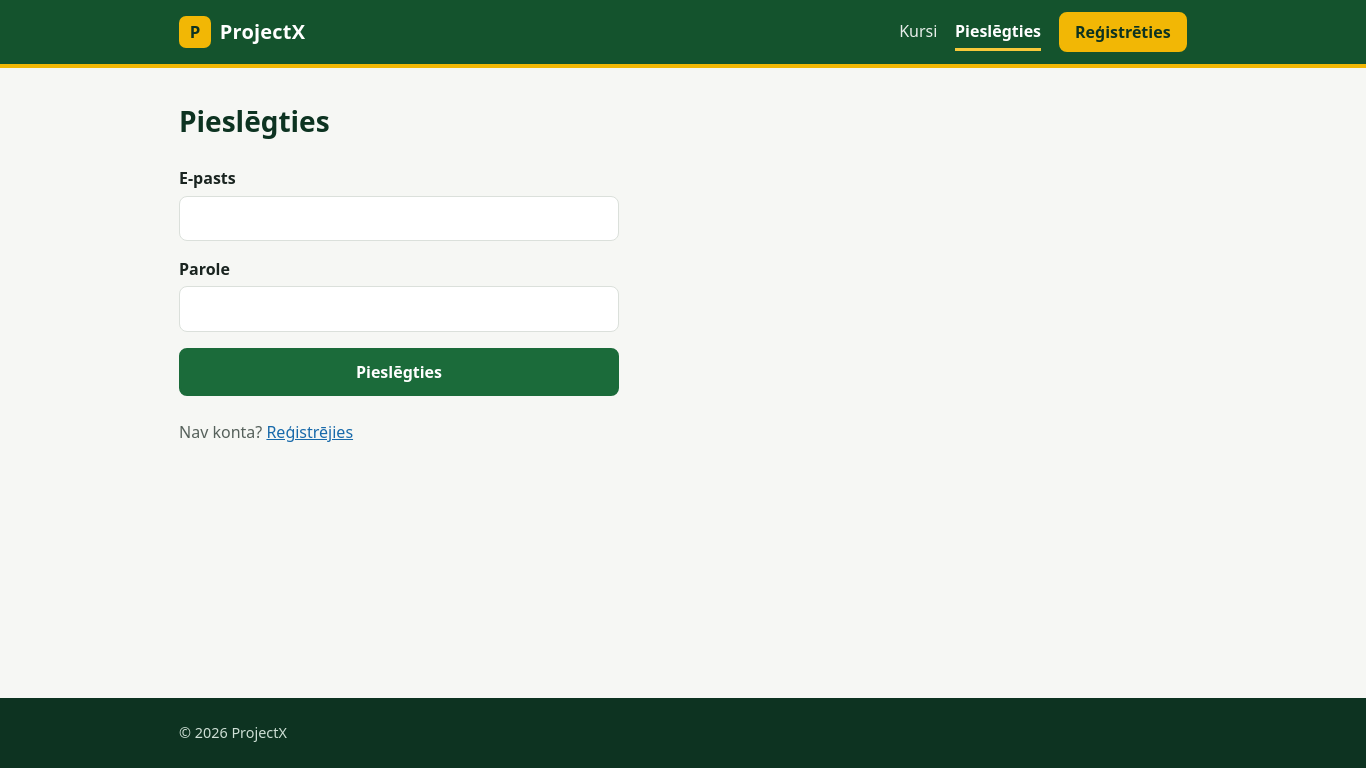
Test case: login › asks for a code when MFA is required, then logs in
Type "anna@example.com" into the field labelled "E-pasts".
click(399, 218); type("anna@example.com")  # box [179, 196, 619, 241]
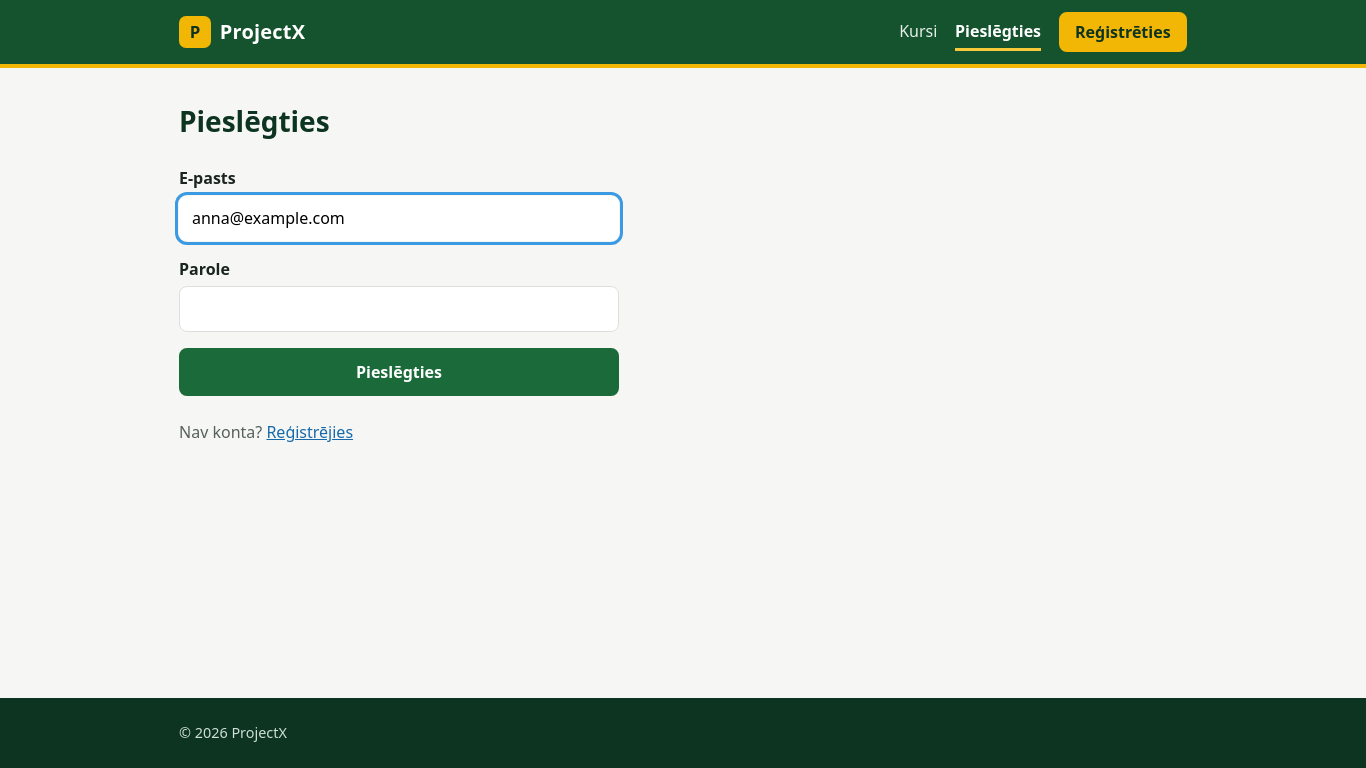
Type "correct horse battery" into the password field labelled "Parole".
click(399, 309); type("correct horse battery")  # box [179, 286, 619, 332]
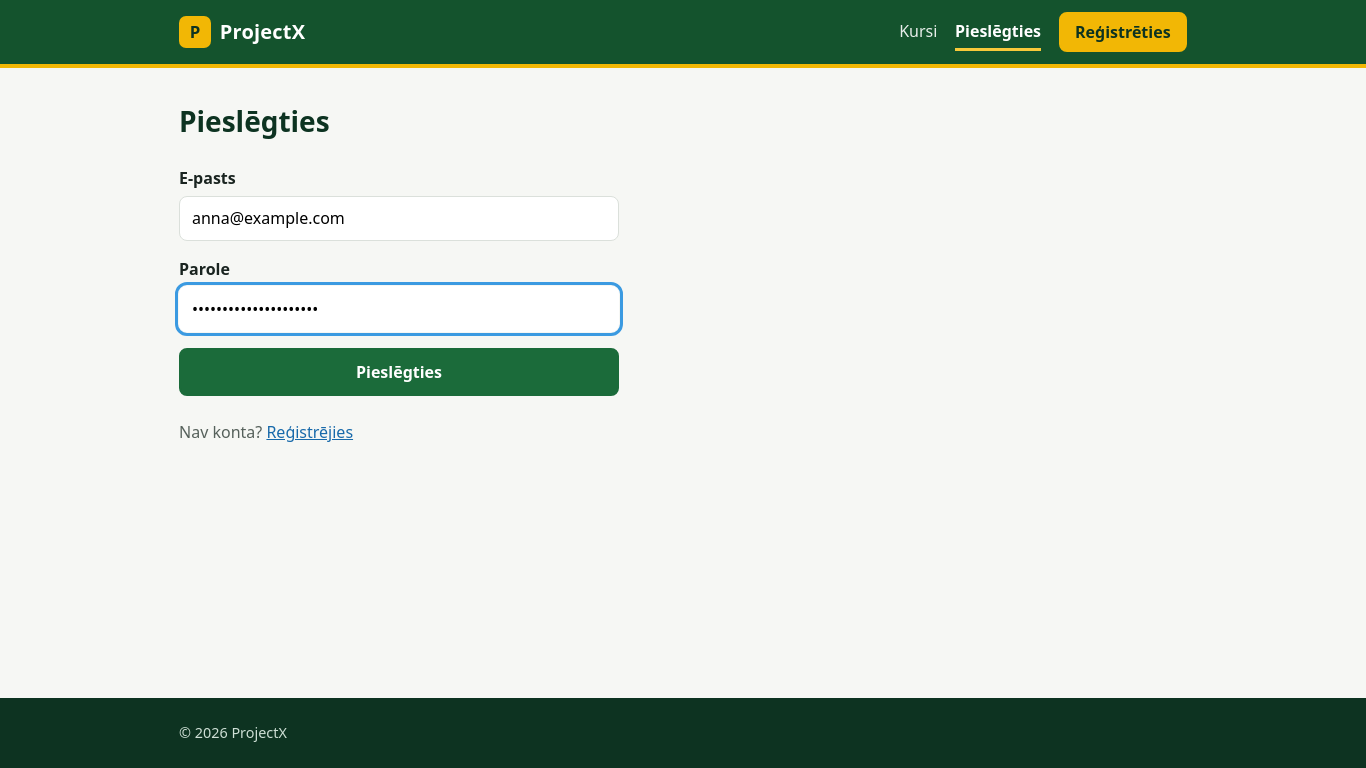
Click the button "Pieslēgties".
click(399, 372)  # box [179, 348, 619, 396]
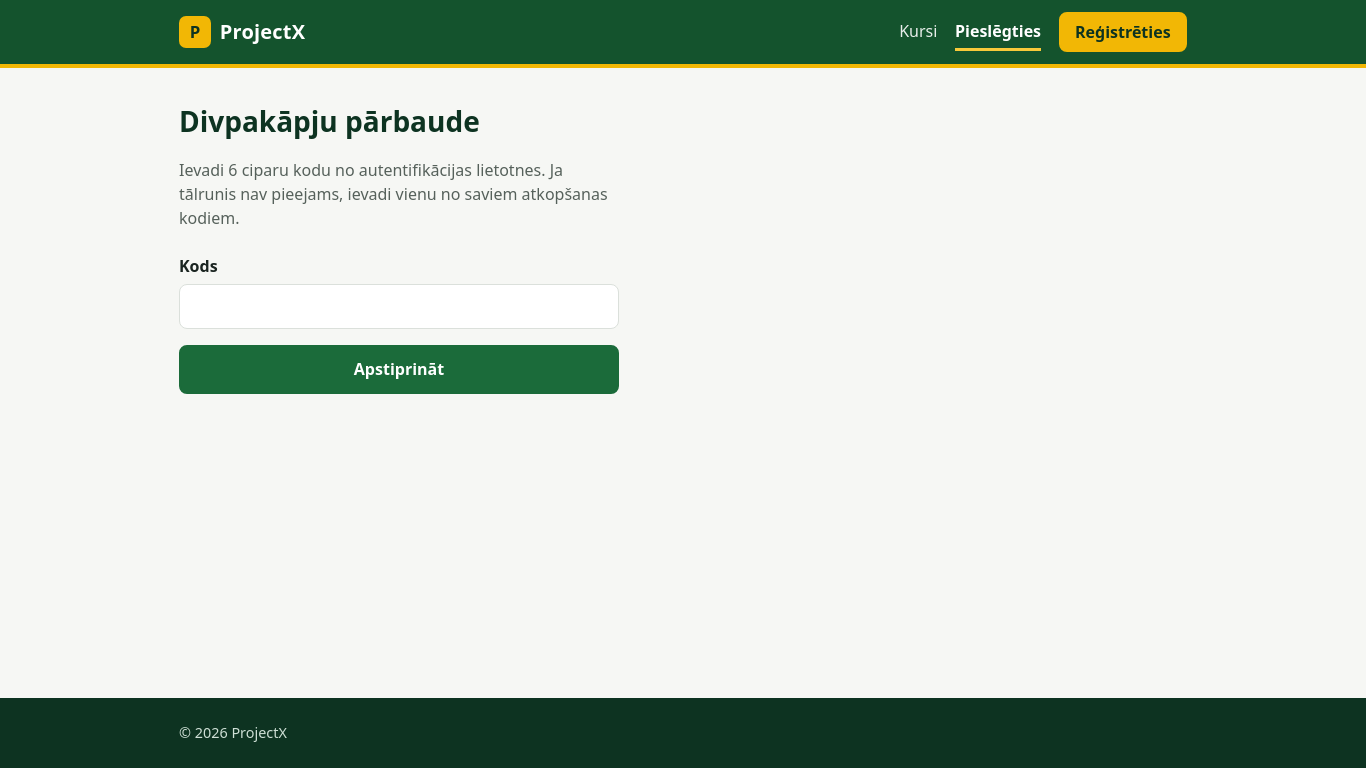
Type "123456" into the field labelled "Kods".
click(399, 306); type("123456")  # box [179, 284, 619, 329]
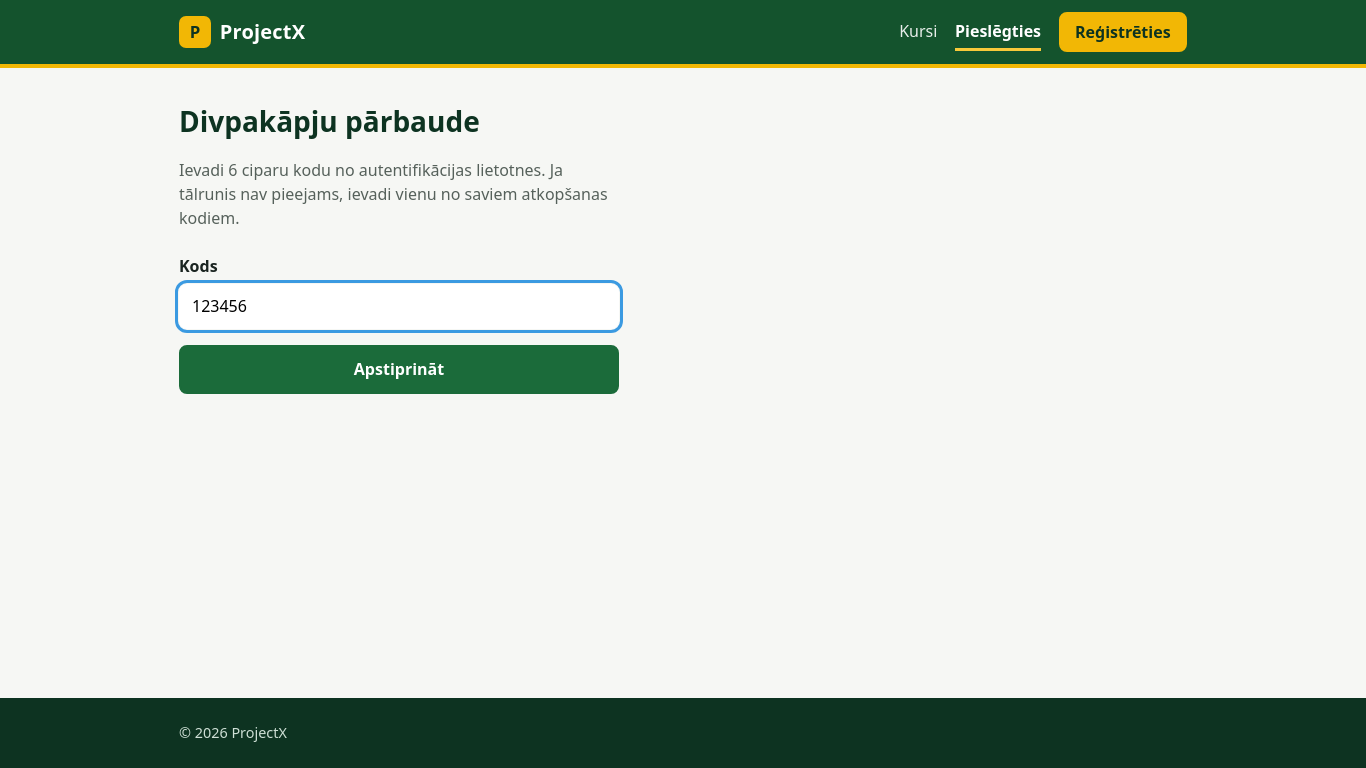
Click the button "Apstiprināt".
click(399, 369)  # box [179, 345, 619, 394]
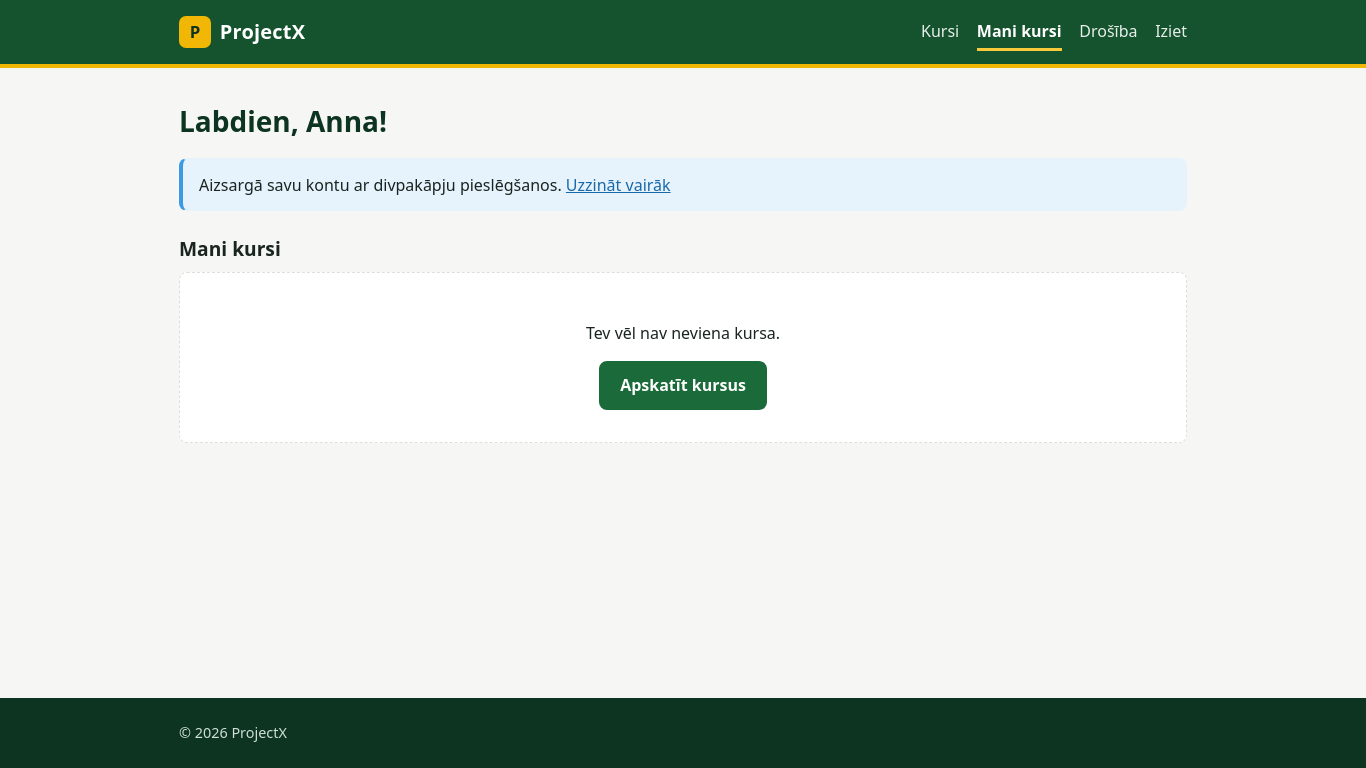
Expected: the heading "Labdien, Anna!" is shown, [179, 102, 387, 140]
